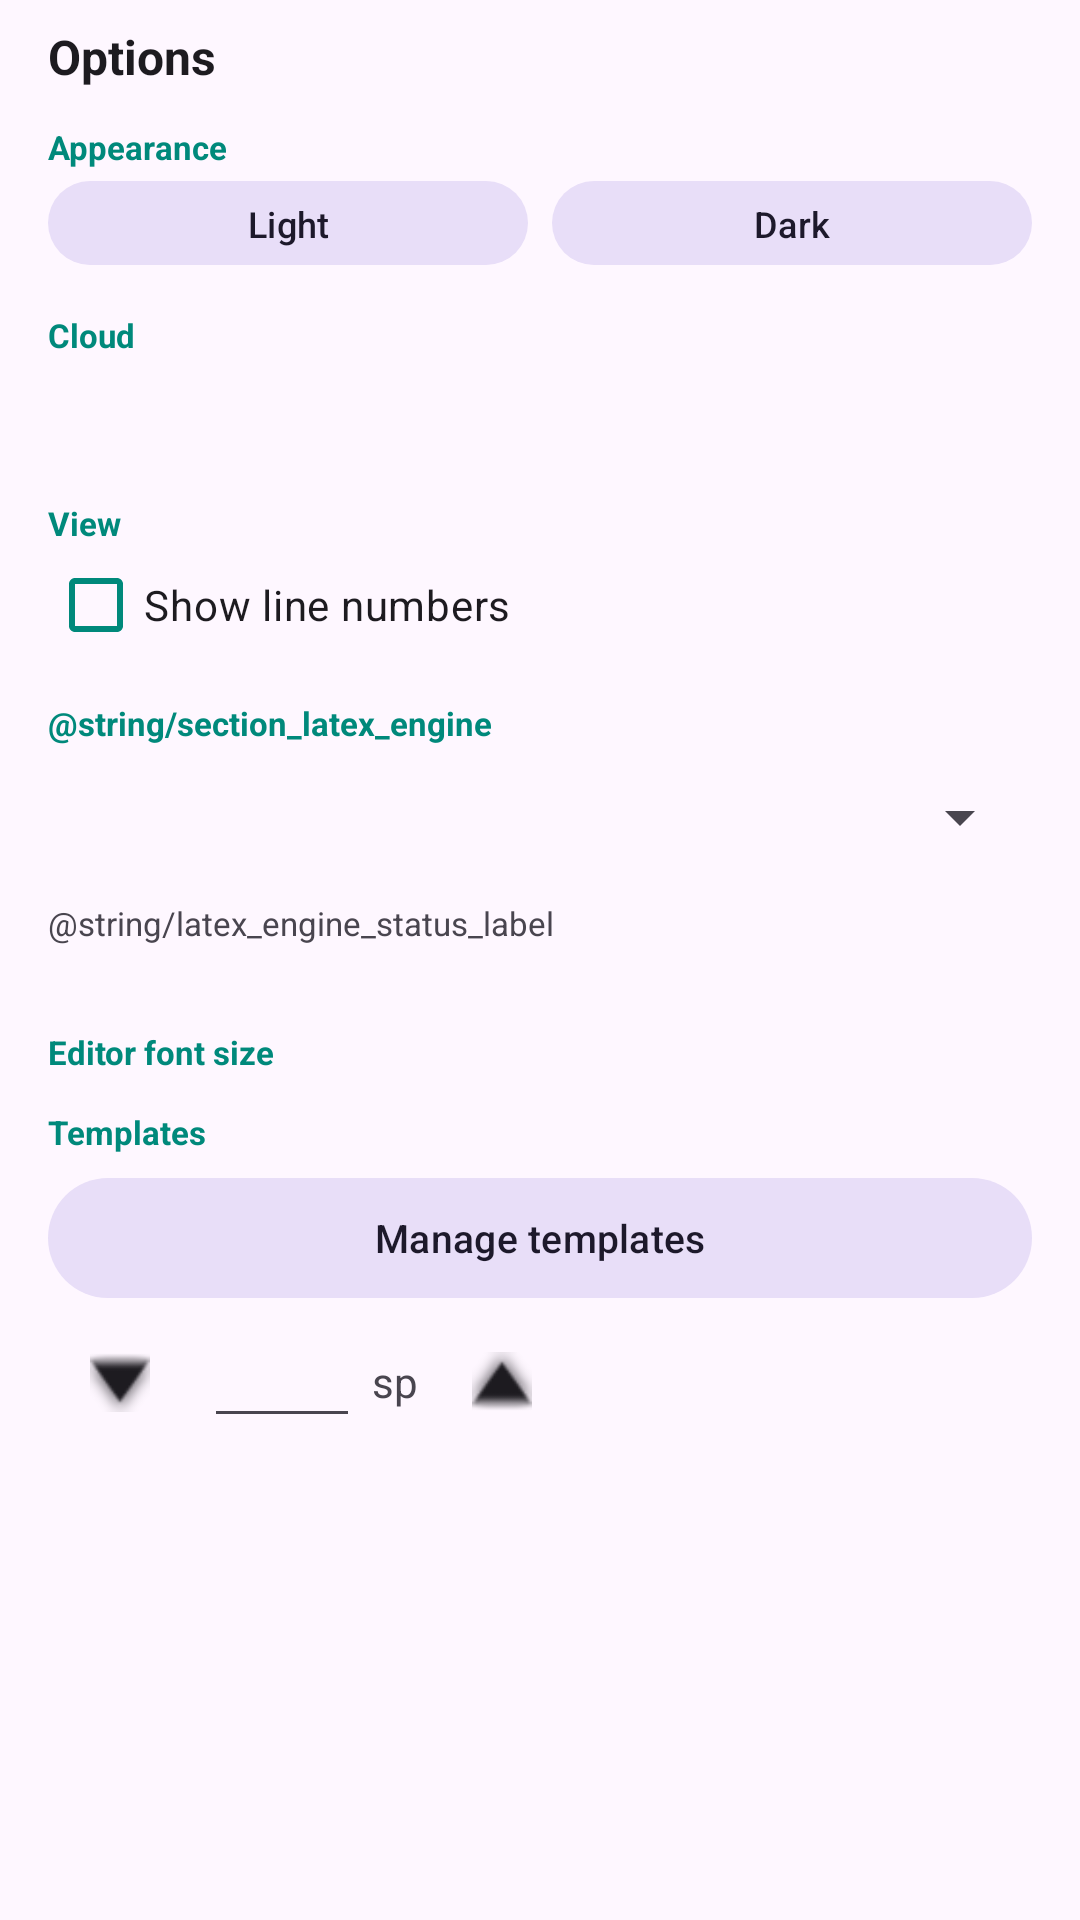

Named icons in this screenshot (1080x1920) and their centers, (x=x, y=y):
Decrease font size: (x=120, y=1382)
Increase font size: (x=502, y=1381)
